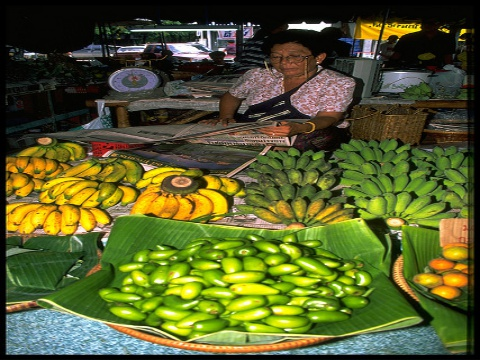hand: (258, 119, 302, 138)
